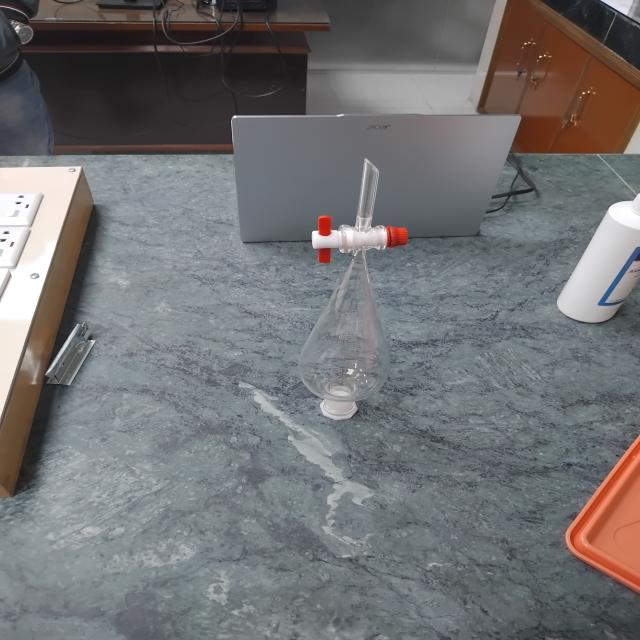Separating_Funnel: (284, 122, 432, 439)
